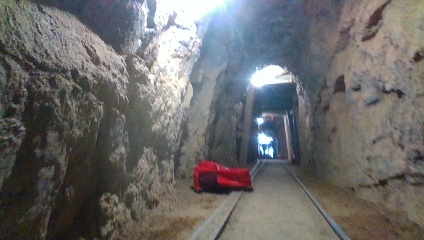backpack: (190, 159, 253, 192)
